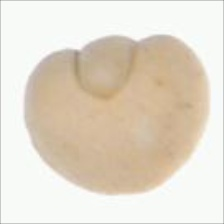L5: (73, 33, 139, 101)
L6: (20, 32, 213, 197)
